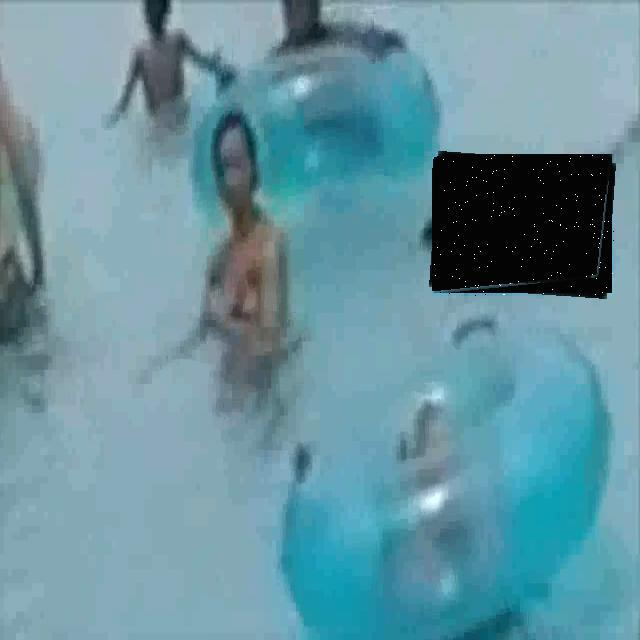Out of Water: (432, 154, 614, 296)
